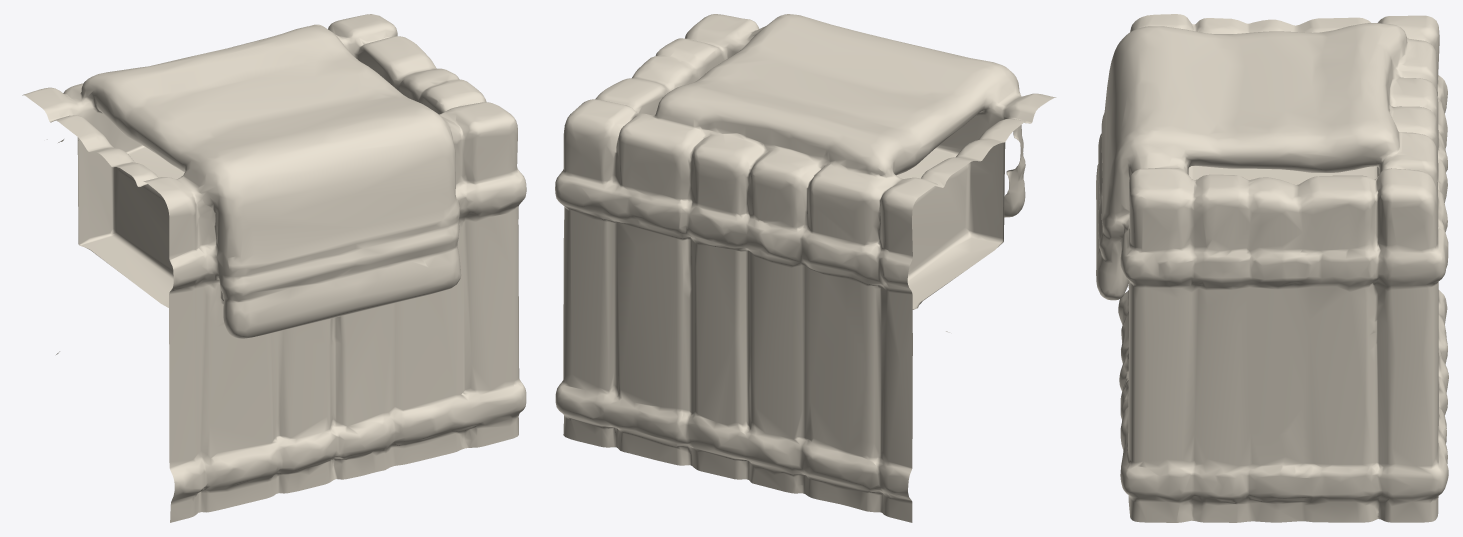
File: spa_chest.glb
3 renders of one model, left to right at view 1: azimuth 30°, elevation 25°; view 2: azimuth 150°, elevation 25°; view 3: azimuth 270°, elevation 25°, orthographic. The views are drawn at different scales.
Bounding box in the file's own units: 0.1444 × 0.1317 × 0.1192.
